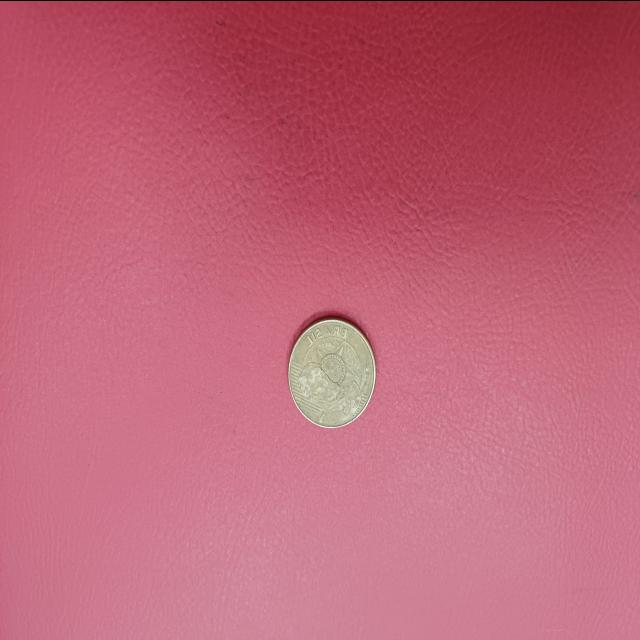25 cents: (284, 316, 378, 432)
